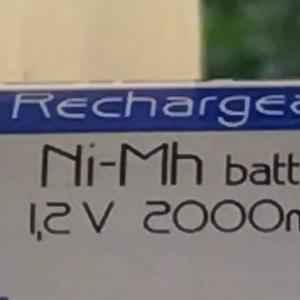NI-MH: (31, 131, 213, 198)
